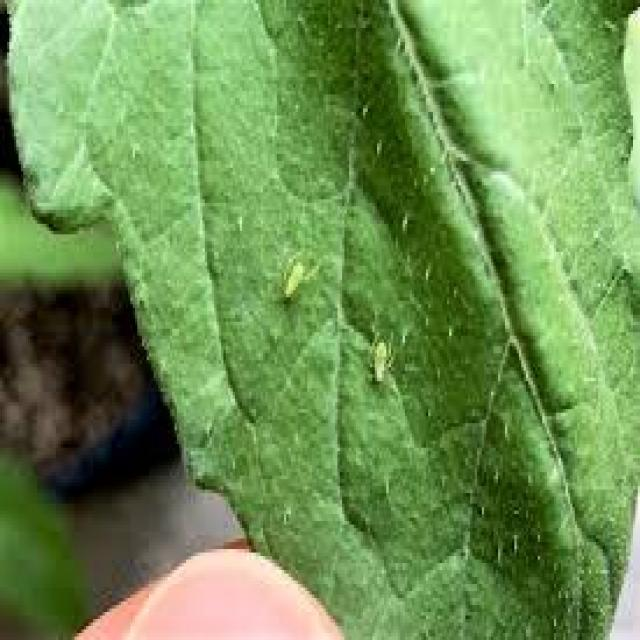aphid: (272, 234, 319, 315), (358, 322, 401, 395)
